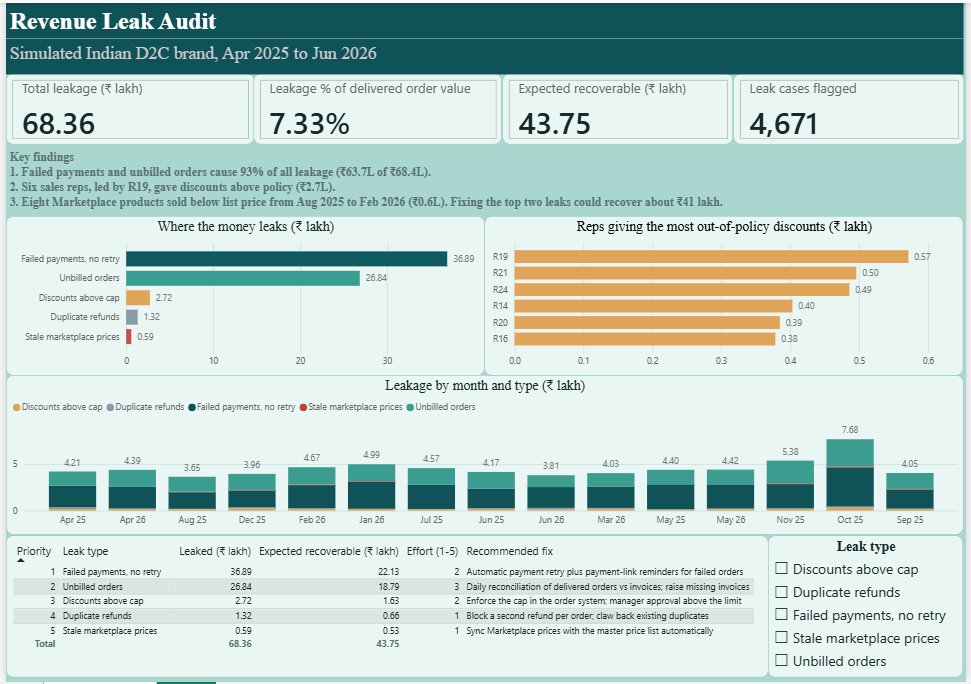

The page's visual inventory and layout, read from the dashboard file:
{"tool":"powerbi","page":{"name":"Page 1","canvas":[1300,919],"ordinal":0},"visuals":[{"type":"cardVisual","title":"Total leakage (₹ lakh)","fields":{"Data":["leaks.Total Leakage (L)"]},"box":[0,96,336,96],"z":0},{"type":"cardVisual","fields":{"Data":["leaks.Leakage % of Revenue"]},"box":[336,96,336,96],"z":1000},{"type":"cardVisual","fields":{"Data":["leaks.Expected Recoverable (L)"]},"box":[672,96,312,96],"z":2000},{"type":"cardVisual","fields":{"Data":["leaks.Leak Cases"]},"box":[984,96,312,96],"z":3000},{"type":"clusteredBarChart","title":"Where the money leaks (₹ lakh)","fields":{"Category":["leaks.leak_label"],"Y":["leaks.Total Leakage (L)"]},"box":[0,288,648,216],"z":4000},{"type":"columnChart","title":"Leakage by month and type (₹ lakh)","fields":{"Series":["leaks.leak_label"],"Y":["leaks.Total Leakage (L)"],"Category":["leaks.Month Label"]},"box":[0,504,1296,216],"z":5000},{"type":"clusteredBarChart","title":"Reps giving the most out-of-policy discounts (₹ lakh)","fields":{"Category":["leaks.rep_id"],"Y":["leaks.Total Leakage (L)"]},"box":[648,288,648,216],"z":6000},{"type":"tableEx","fields":{"Values":["recovery_plan.priority","recovery_plan.leak_label","leaks.Total Leakage (L)","leaks.Expected Recoverable (L)","recovery_plan.effort","recovery_plan.fix"]},"box":[0,720,1032,192],"z":7000},{"type":"listSlicer","fields":{"Values":["recovery_plan.leak_label"]},"box":[1032,720,264,192],"z":8000},{"type":"textbox","box":[0,192,1296,96],"z":9000},{"type":"textbox","box":[0,0,1296,48],"z":10000},{"type":"textbox","box":[0,48,1296,48],"z":11000}]}

Visuals, with their boxes in screenshot pixels (x1, y1, x2, y2), scaled from the page's 1300x919 canvas onto the 971x684 screenshot:
"Total leakage (₹ lakh)" cardVisual: left=0, top=71, right=251, bottom=143
cardVisual - leaks.Leakage % of Revenue: left=251, top=71, right=502, bottom=143
cardVisual - leaks.Expected Recoverable (L): left=502, top=71, right=735, bottom=143
cardVisual - leaks.Leak Cases: left=735, top=71, right=968, bottom=143
"Where the money leaks (₹ lakh)" clusteredBarChart: left=0, top=214, right=484, bottom=375
"Leakage by month and type (₹ lakh)" columnChart: left=0, top=375, right=968, bottom=536
"Reps giving the most out-of-policy discounts (₹ lakh)" clusteredBarChart: left=484, top=214, right=968, bottom=375
tableEx - recovery_plan.priority x recovery_plan.leak_label: left=0, top=536, right=771, bottom=679
listSlicer - recovery_plan.leak_label: left=771, top=536, right=968, bottom=679
textbox: left=0, top=143, right=968, bottom=214
textbox: left=0, top=0, right=968, bottom=36
textbox: left=0, top=36, right=968, bottom=71
